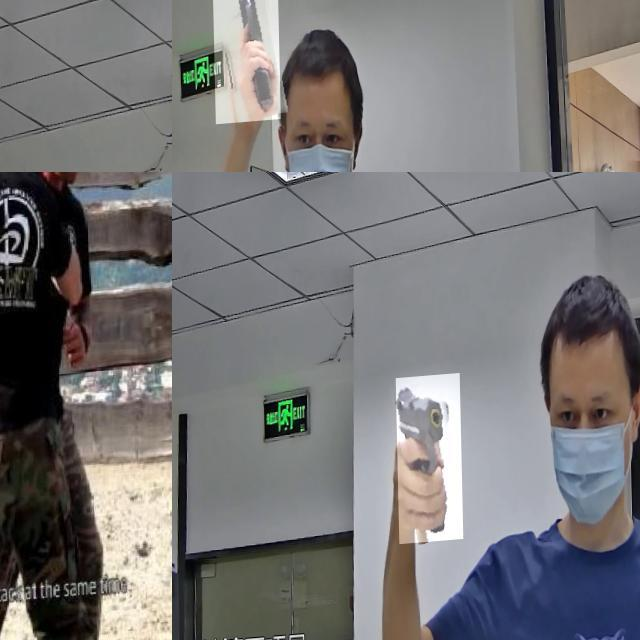-: (0, 172, 22, 248)
gun-knife-thesis - v11 Yolov5 augmented: (394, 379, 461, 549), (210, 0, 278, 127)
